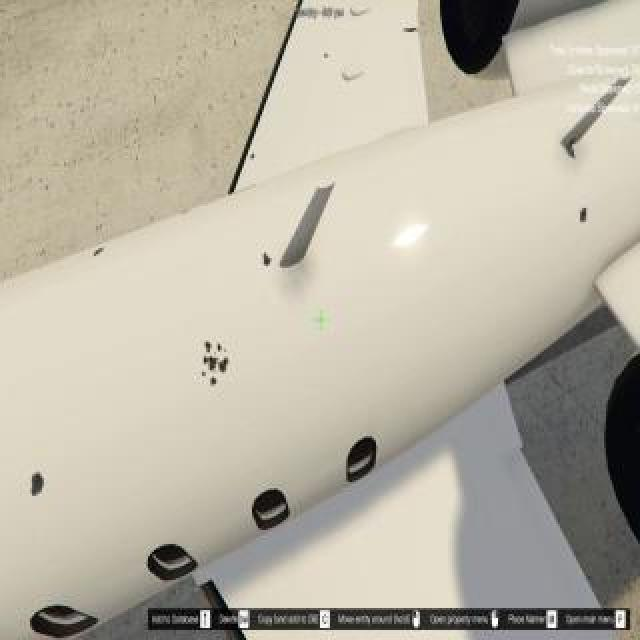crack: (201, 342, 231, 390), (29, 473, 49, 499), (260, 250, 276, 270), (579, 204, 591, 228), (95, 249, 107, 261), (323, 50, 329, 62), (250, 151, 256, 163)
